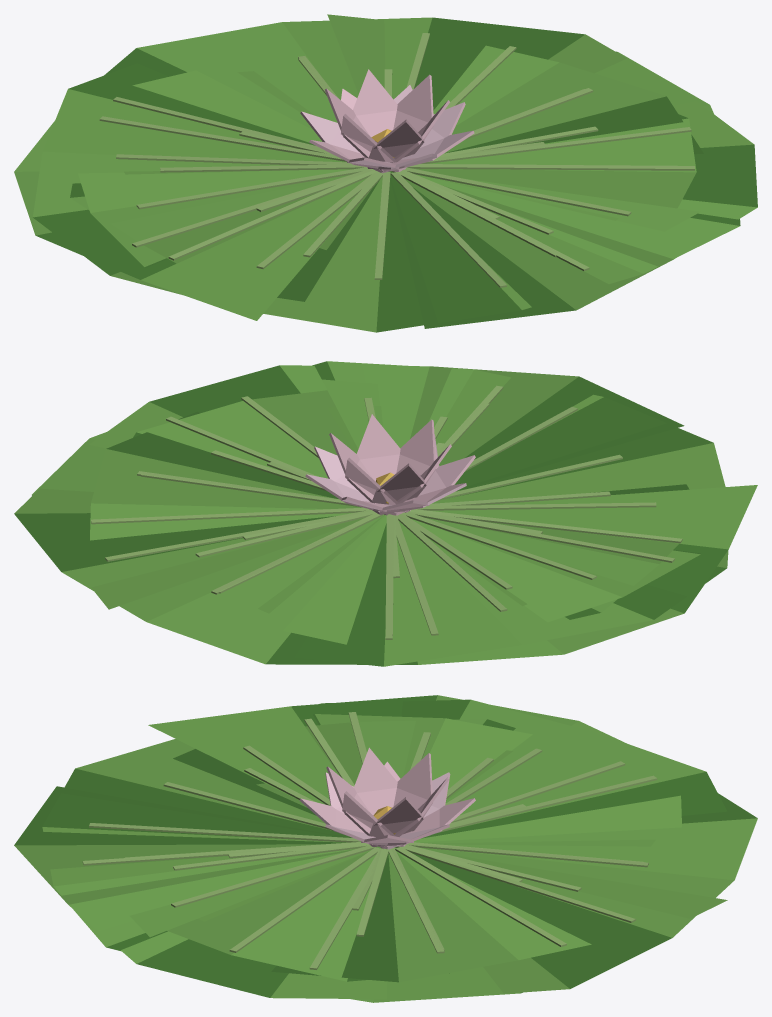
The model's file is lily.fbx.
The picture shows the model from 3 angles, top to bottom: view 1: azimuth 30°, elevation 25°; view 2: azimuth 150°, elevation 25°; view 3: azimuth 270°, elevation 25°; orthographic projection. The views are drawn at different scales.
Parts seen in each view (by area): view 1: lily_2, lily_0, lily_4, lily_5, lily_1, lily_3; view 2: lily_2, lily_0, lily_4, lily_5, lily_1, lily_3; view 3: lily_2, lily_0, lily_4, lily_5, lily_1, lily_3.
Part boxes in pixels (left/top/right/bottom): lily_2: left=14, top=17, right=757, bottom=328; lily_0: left=32, top=14, right=740, bottom=332; lily_4: left=78, top=45, right=703, bottom=269; lily_5: left=70, top=57, right=696, bottom=301; lily_1: left=124, top=69, right=639, bottom=257; lily_3: left=239, top=131, right=545, bottom=249; lily_2: left=14, top=365, right=757, bottom=664; lily_0: left=32, top=361, right=728, bottom=666; lily_4: left=90, top=379, right=700, bottom=622; lily_5: left=133, top=390, right=689, bottom=644; lily_1: left=195, top=406, right=610, bottom=613; lily_3: left=242, top=442, right=542, bottom=578; lily_2: left=14, top=695, right=757, bottom=999; lily_0: left=42, top=699, right=727, bottom=1002; lily_4: left=124, top=714, right=648, bottom=982; lily_5: left=163, top=719, right=681, bottom=981; lily_1: left=173, top=750, right=655, bottom=936; lily_3: left=228, top=783, right=525, bottom=910.
Bounding box in the file's own units: 1.98 × 0.2427 × 2.04.
